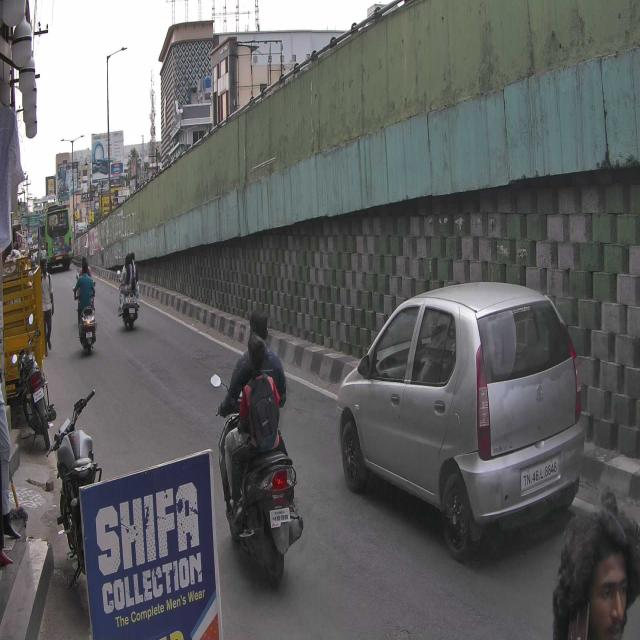double_rider: (210, 303, 308, 596)
